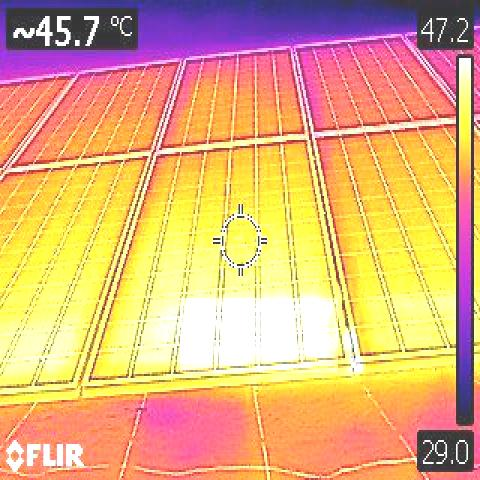fault: (181, 298, 338, 373)
